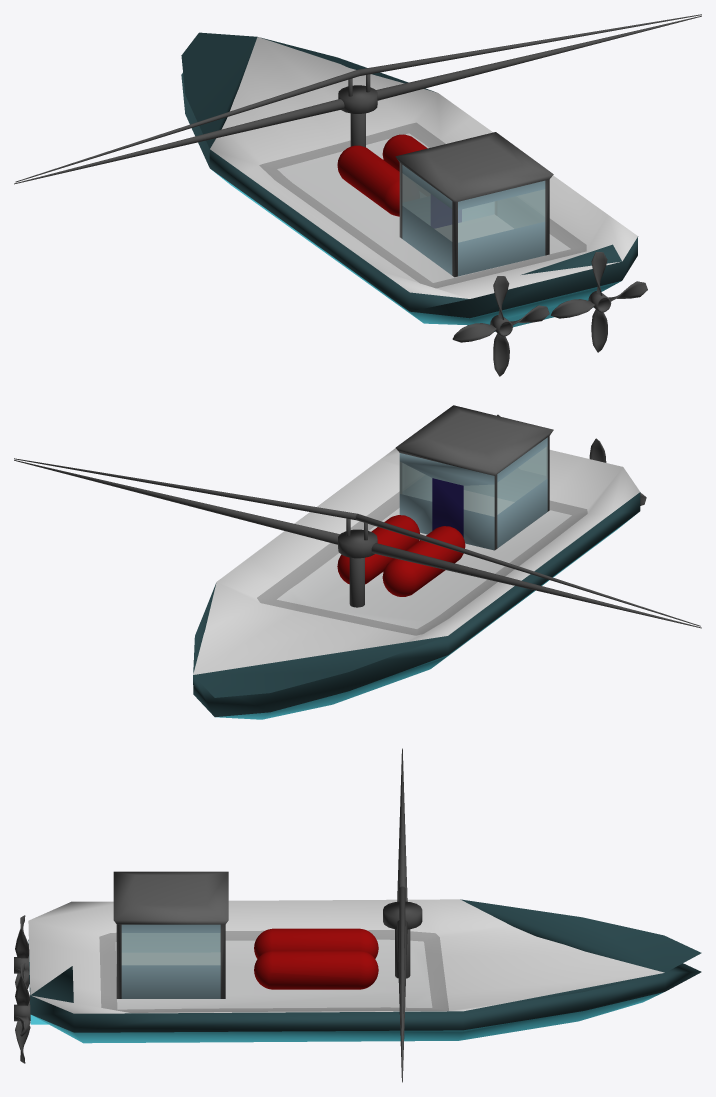
Rendered from CapacityDisperserShip.fbx.
The picture shows the model from 3 angles, top to bottom: view 1: azimuth 30°, elevation 25°; view 2: azimuth 150°, elevation 25°; view 3: azimuth 270°, elevation 25°; orthographic projection.
Visible parts, largest first — view 1: polySurface45, polySurface46; view 2: polySurface45, polySurface46; view 3: polySurface45, polySurface46.
Boxes of the visible parts, x1,y1,x2,y2 form: polySurface45: [14, 14, 701, 376]; polySurface46: [337, 134, 427, 216]; polySurface45: [14, 405, 701, 719]; polySurface46: [337, 515, 465, 596]; polySurface45: [14, 748, 701, 1082]; polySurface46: [254, 928, 378, 989].
Size of the model in its own units: 7.94 by 1.69 by 6.95.
